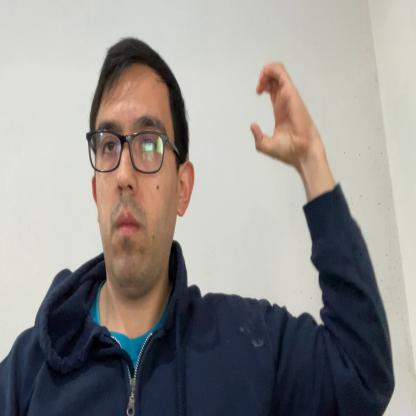C: (250, 59, 306, 164)
